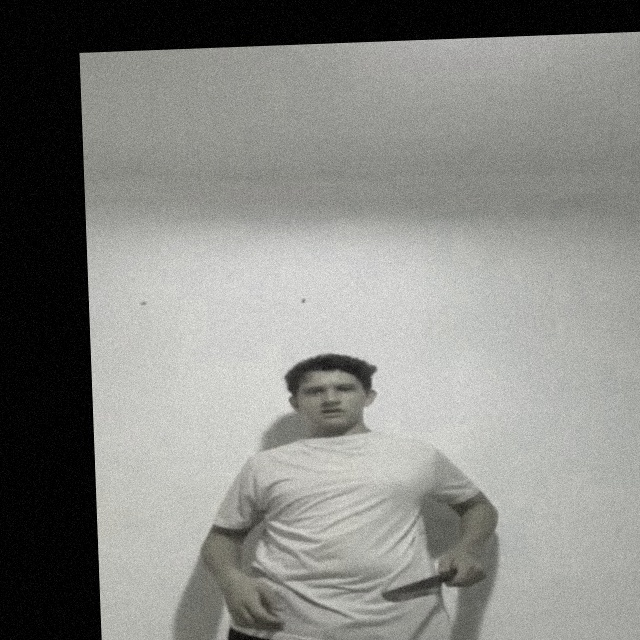Sharp-Object: (377, 571, 444, 605)
